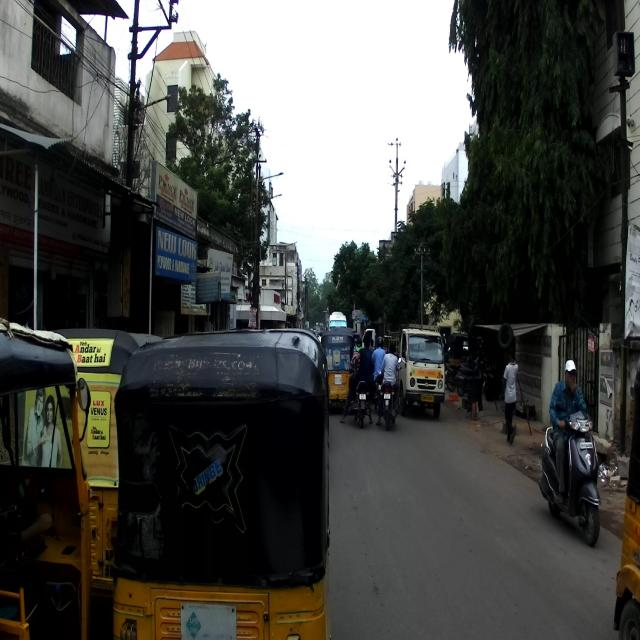autorickshaw: (110, 324, 332, 640), (54, 326, 169, 594), (0, 310, 93, 639)
scooter: (538, 399, 602, 547)
truck: (385, 322, 445, 419)
